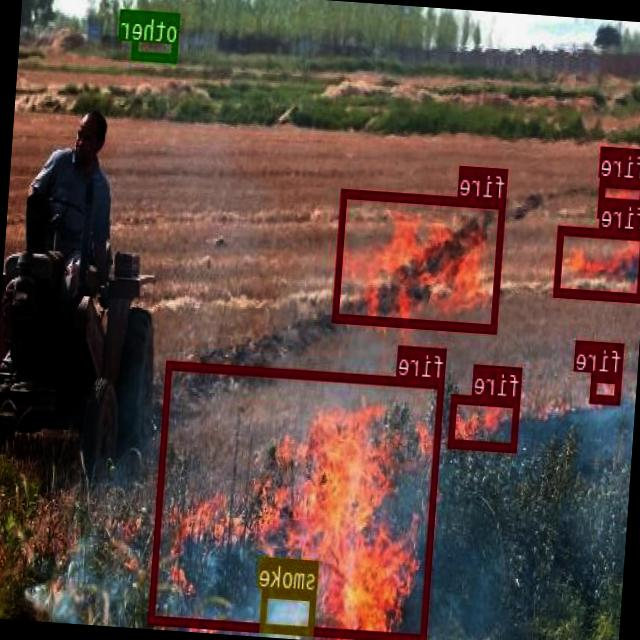fire: (149, 359, 445, 640), (333, 187, 506, 332), (555, 223, 640, 301), (450, 392, 520, 451), (599, 177, 640, 218), (590, 372, 622, 402)
smoke: (260, 586, 316, 633)
